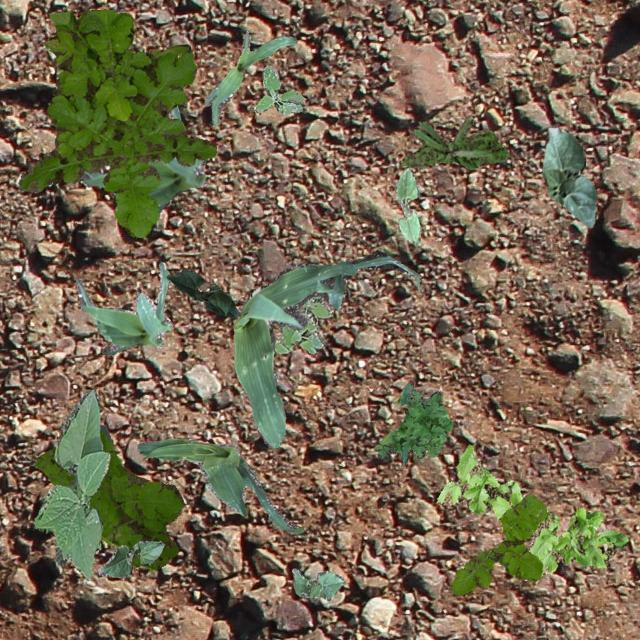crop: (232, 250, 422, 448), (136, 438, 304, 534), (32, 388, 108, 580), (82, 104, 206, 212), (75, 260, 172, 354), (204, 30, 296, 124), (542, 125, 596, 228), (165, 268, 238, 316), (96, 540, 164, 576), (394, 168, 419, 242), (290, 568, 342, 600)
weed: (18, 8, 216, 236), (436, 444, 626, 574), (34, 424, 182, 568), (446, 494, 546, 596), (372, 382, 452, 463), (402, 115, 508, 168), (274, 294, 332, 352), (252, 65, 304, 114)
